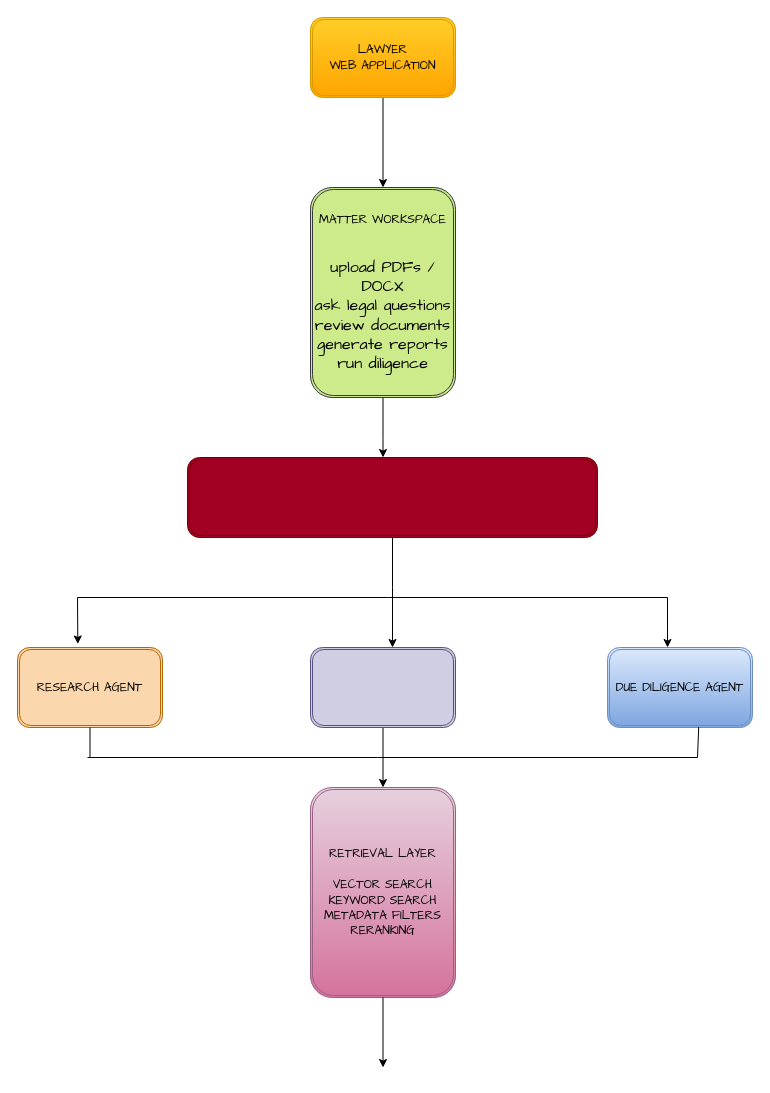
Image size: 770x1093. Some labels were removed from this diagram. The shapes that lost their labels are listed below. From the top down, each one's centre as x and y in pixels, then its label:
At point 392,497: "AI ORCHESTRATOR P lanner → Agents →Tools".
At point 383,687: "DOCUMENT AGENT".
